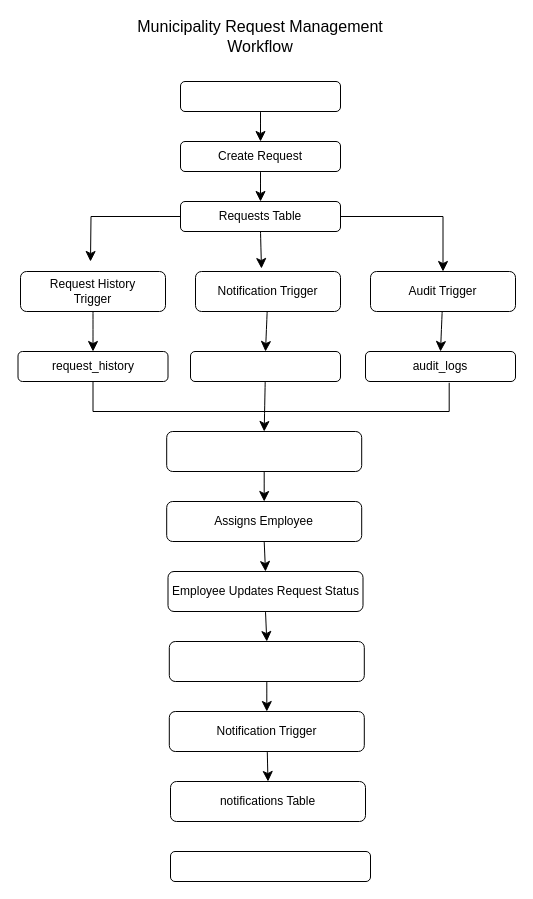
The diagram is 533 pixels wide and 899 high, and some of its shapes have lost their labels. Here are the shapes that lost their labels. From the top down, the centre of each, then its label:
At (260,96): "Citizen".
At (265,366): "notifications".
At (264,451): "Manager Reviews Request".
At (266,661): "Request Status Updated (In Progress/ Completed / Rejected)".
At (270,866): "Request Closes".
